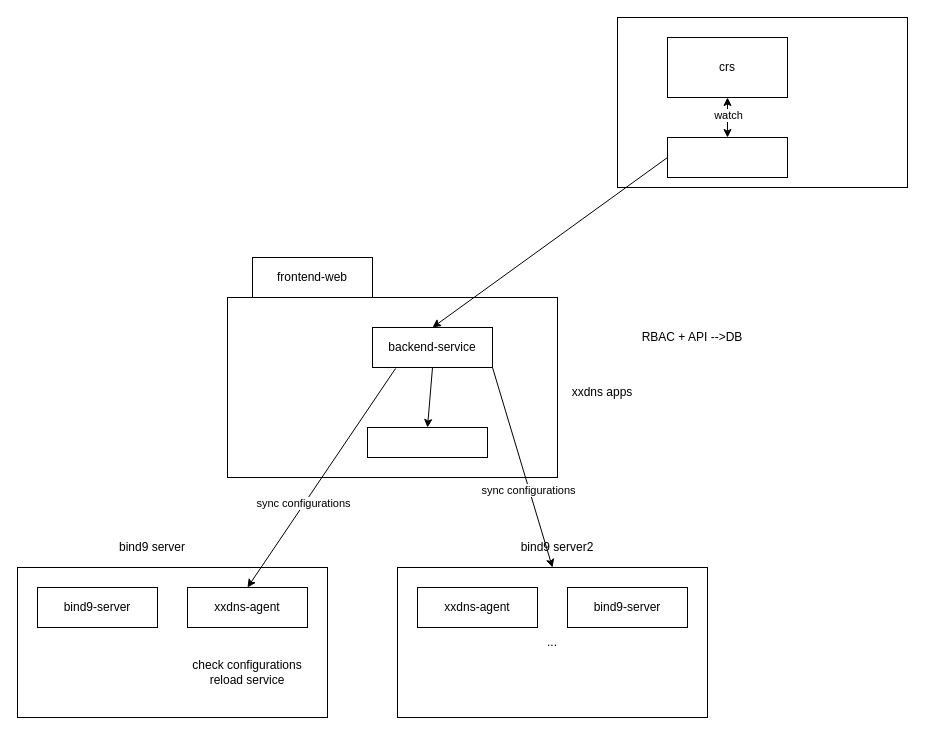
The diagram is 925 pixels wide and 735 high, and some of its shapes have lost their labels. The shapes that lost their labels are listed below. From the top down, each one's centre as x and y in pixels, then its label:
At [727,157]: "operator".
At [427,442]: "database".
